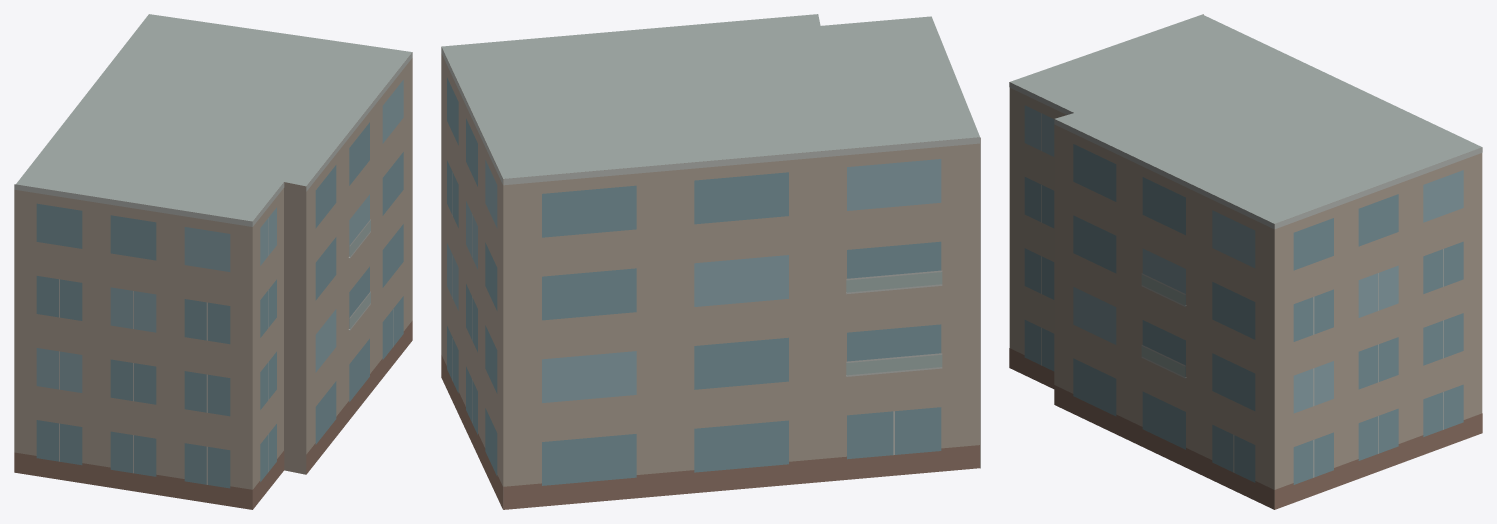
The model's file is survey-upis-32658936.glb.
3 views of the same model, side by side, from view 1: azimuth 30°, elevation 25°; view 2: azimuth 150°, elevation 25°; view 3: azimuth 270°, elevation 25° (orthographic). The views are drawn at different scales.
Visible parts, largest first — view 1: survey-upis-32658936.tmp; view 2: survey-upis-32658936.tmp; view 3: survey-upis-32658936.tmp.
Boxes of the visible parts, left/top/right/bottom form: survey-upis-32658936.tmp: left=14, top=14, right=412, bottom=509; survey-upis-32658936.tmp: left=441, top=14, right=980, bottom=509; survey-upis-32658936.tmp: left=1009, top=14, right=1482, bottom=509.
Size of the model in its own units: 20.04 by 12.72 by 19.08.
